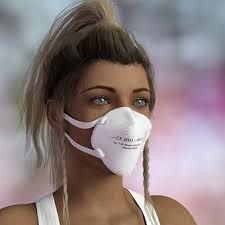with-mask: (46, 40, 156, 185)
